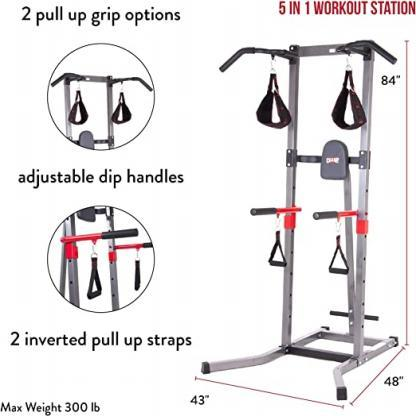chinning dipping: (203, 41, 401, 400)
